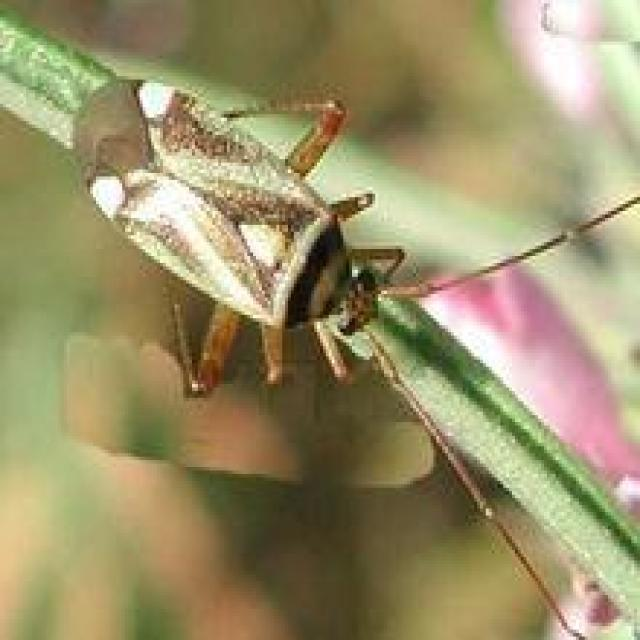Miridae-Adult-: (60, 49, 620, 513)
